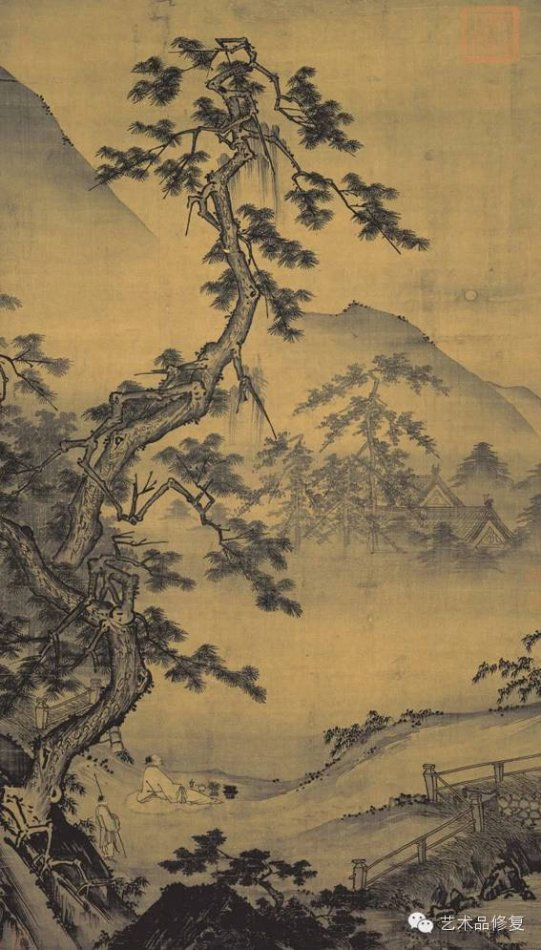hill: (3, 49, 154, 271), (336, 301, 541, 431)
house: (349, 467, 517, 559)
man: (131, 747, 222, 815), (88, 794, 130, 858)
pine: (10, 50, 428, 830), (170, 833, 388, 943), (303, 351, 430, 507)
river: (202, 595, 455, 712)
